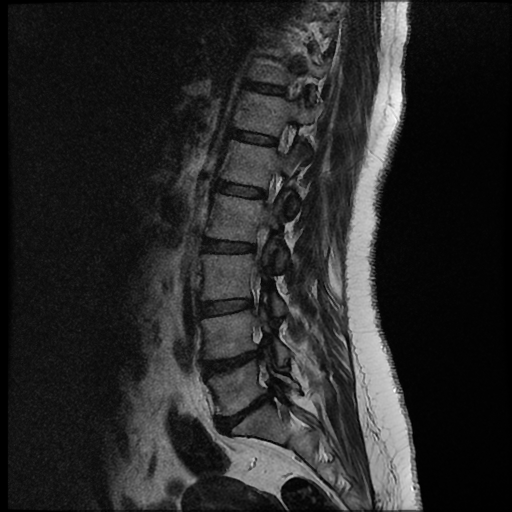RFS0: (250, 165, 290, 214)
